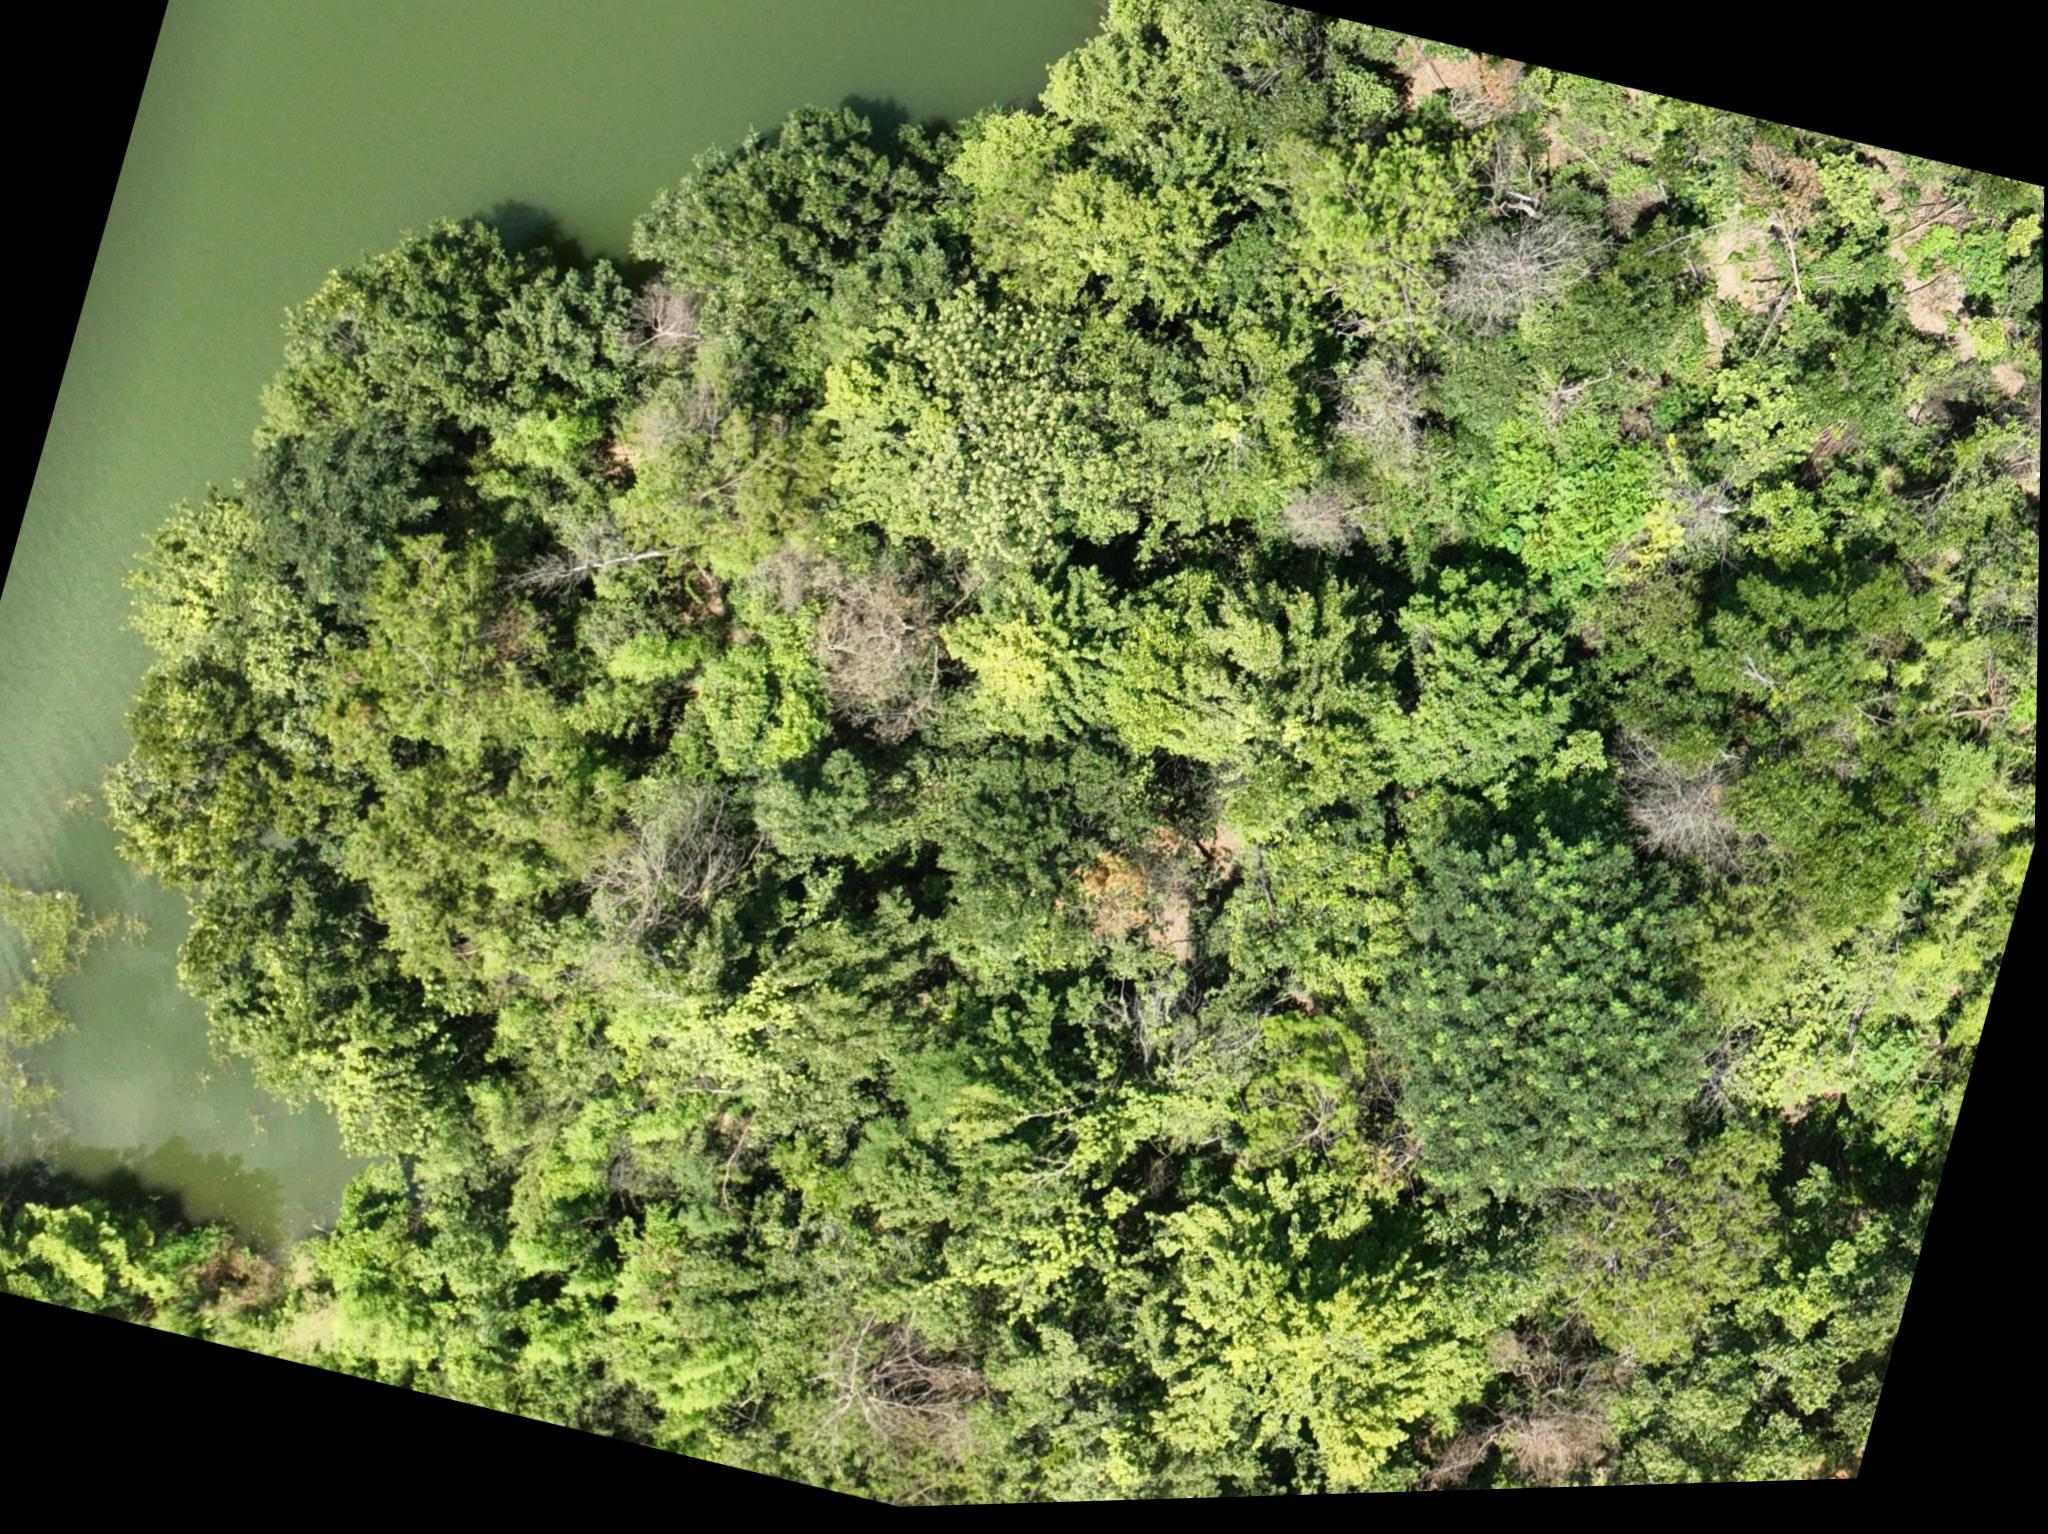dead: (796, 551, 960, 743), (807, 1313, 989, 1474), (1470, 1334, 1639, 1500), (1437, 222, 1579, 350), (1629, 775, 1737, 877), (620, 284, 712, 380), (1336, 364, 1432, 456), (1276, 479, 1368, 570)
heavy: (1724, 142, 1832, 250)
